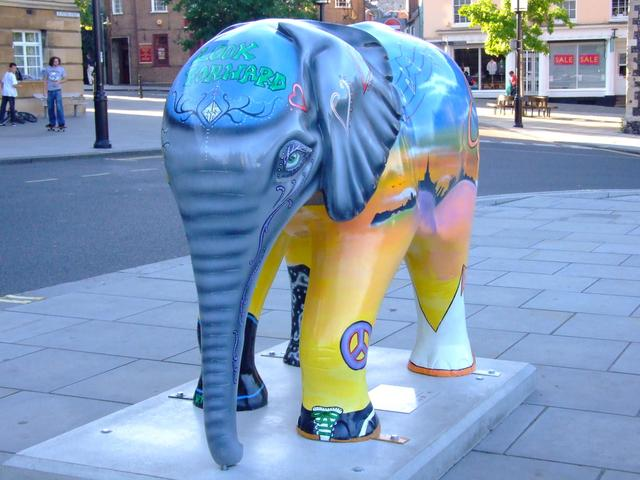elephant: (105, 20, 525, 468)
